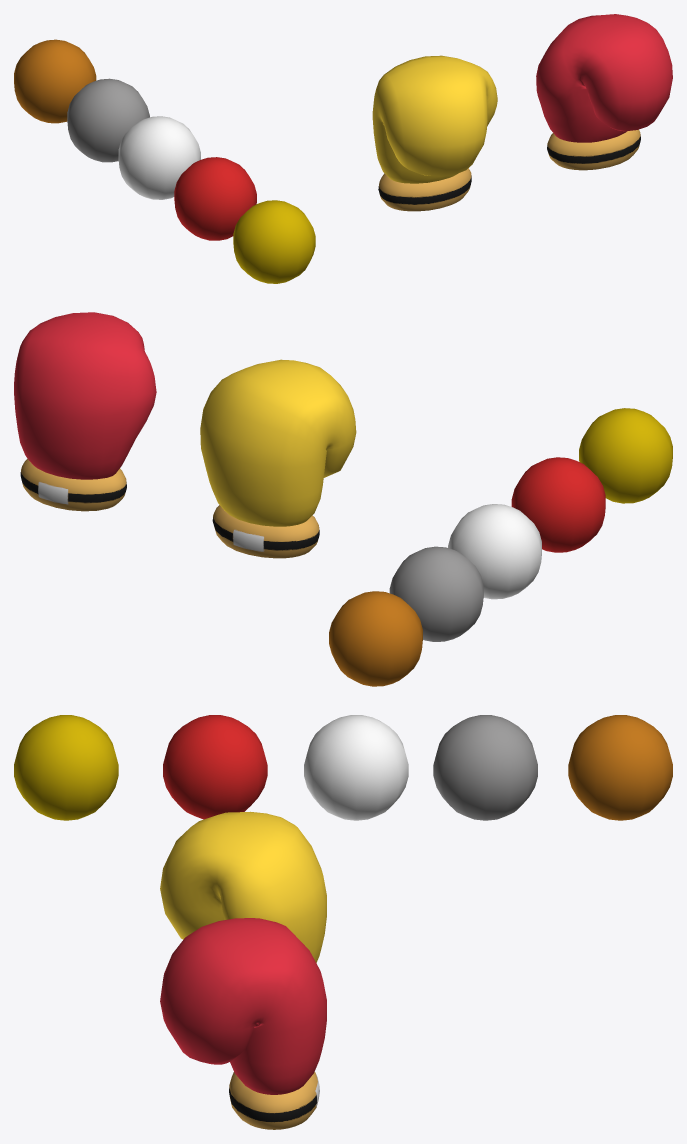
Rendered from Bong_GangTay.fbx.
3 views of the same model, one above another, from view 1: azimuth 30°, elevation 25°; view 2: azimuth 150°, elevation 25°; view 3: azimuth 270°, elevation 25° (orthographic). The views are drawn at different scales.
Visible parts, largest first — view 1: Boxing, Boxing001, Bong_vang, Bong_do, Bong_trang, Bong_Cam, Bong_xam; view 2: Boxing001, Boxing, Bong_Cam, Bong_vang, Bong_do, Bong_xam, Bong_trang; view 3: Boxing, Boxing001, Bong_trang, Bong_Cam, Bong_vang, Bong_xam, Bong_do.
Boxes of the visible parts, x1=… form: Boxing: x1=536, y1=14, x2=672, y2=170; Boxing001: x1=372, y1=55, x2=497, y2=211; Bong_vang: x1=233, y1=200, x2=315, y2=283; Bong_do: x1=174, y1=157, x2=256, y2=240; Bong_trang: x1=118, y1=116, x2=200, y2=199; Bong_Cam: x1=14, y1=39, x2=96, y2=123; Bong_xam: x1=67, y1=78, x2=149, y2=162; Boxing001: x1=200, y1=359, x2=356, y2=558; Boxing: x1=14, y1=312, x2=156, y2=511; Bong_Cam: x1=329, y1=591, x2=422, y2=686; Bong_vang: x1=579, y1=408, x2=672, y2=503; Bong_do: x1=511, y1=457, x2=605, y2=552; Bong_xam: x1=389, y1=546, x2=483, y2=641; Bong_trang: x1=448, y1=504, x2=541, y2=599; Boxing: x1=160, y1=918, x2=326, y2=1129; Boxing001: x1=160, y1=811, x2=326, y2=962; Bong_trang: x1=304, y1=715, x2=408, y2=820; Bong_Cam: x1=568, y1=715, x2=672, y2=820; Bong_vang: x1=14, y1=715, x2=118, y2=820; Bong_xam: x1=433, y1=715, x2=537, y2=820; Bong_do: x1=163, y1=715, x2=267, y2=819.
Size of the model in its own units: 0.9567 by 0.2622 by 0.8783.
Materials: 3 (3 with a texture image).
